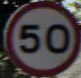Speed limit: (7, 5, 76, 74)
